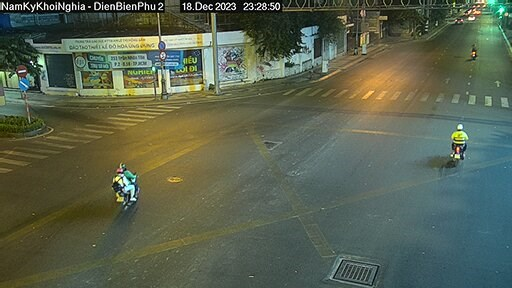motorbike: (108, 159, 139, 213), (446, 117, 472, 164), (467, 39, 477, 60)
